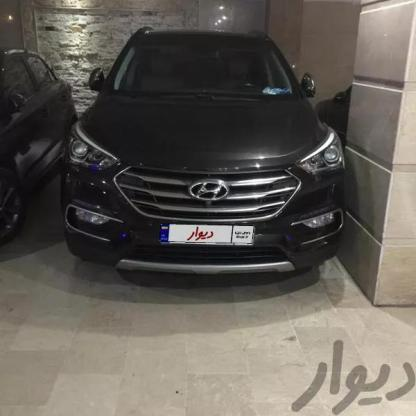Car: (60, 14, 344, 292), (0, 39, 63, 258)
